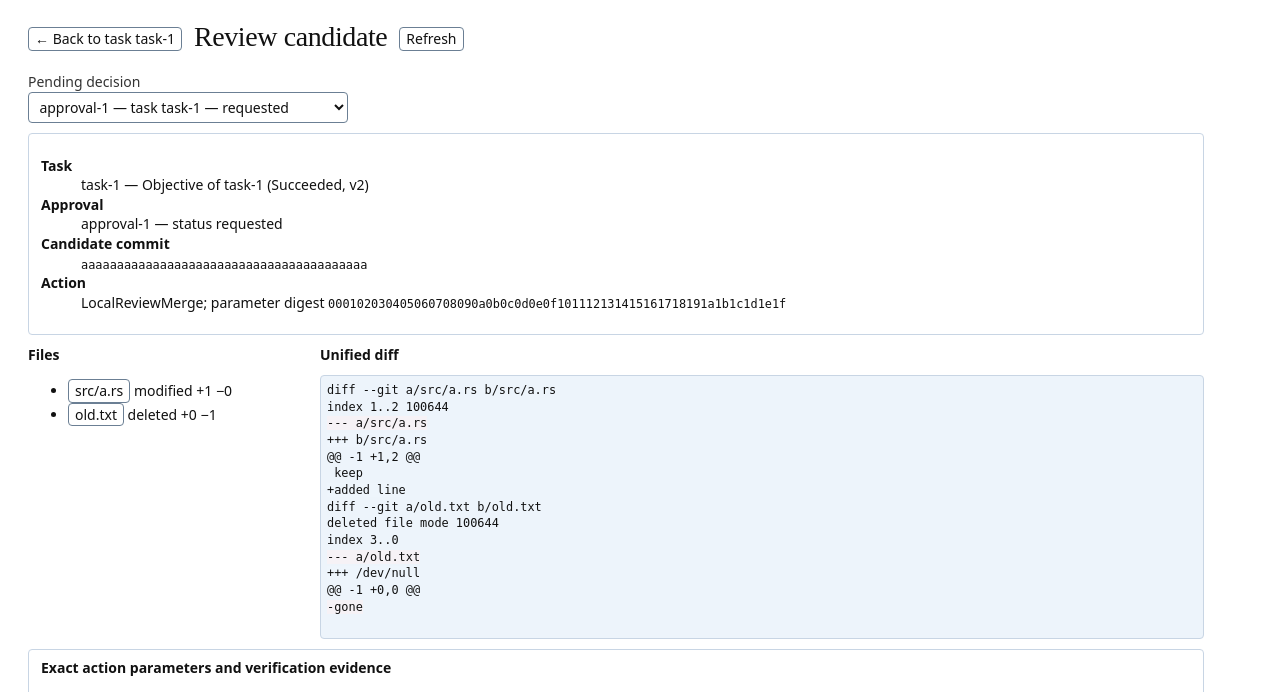
S6 states › warns when the candidate changed under the same approval id
The width and height of the screenshot is (1280, 692).
Click the button "Refresh" at (431, 39), box [399,27,464,51]
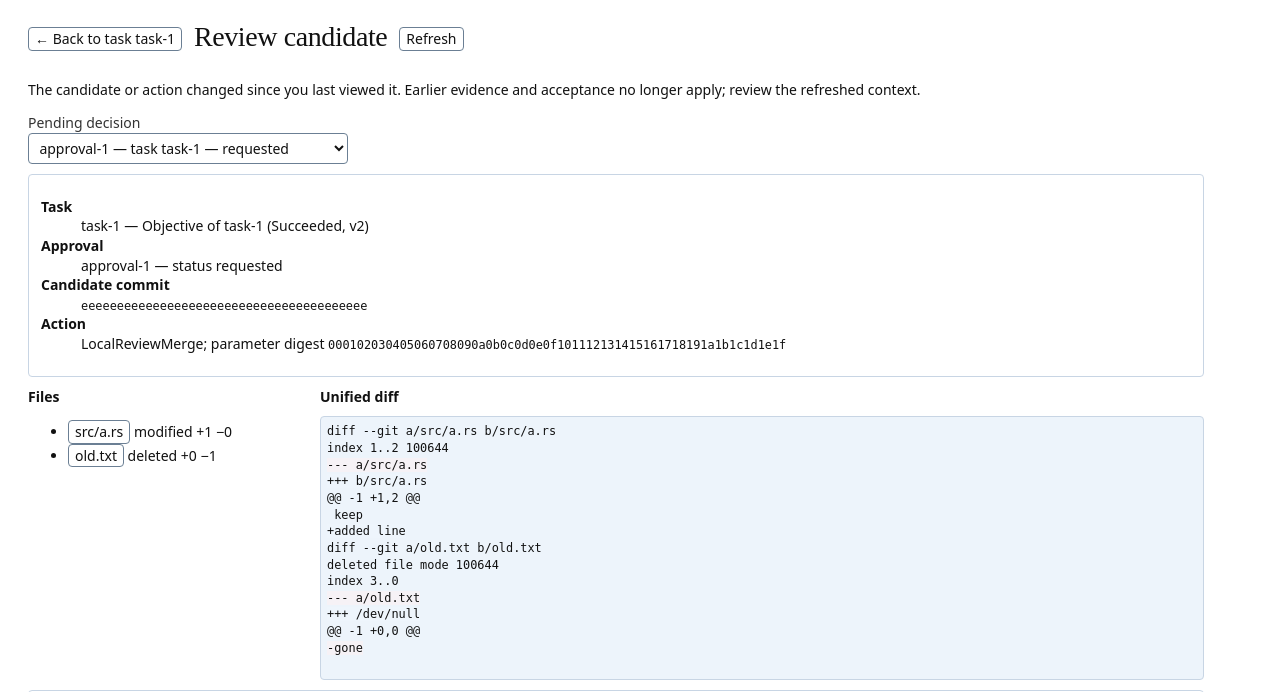
Check: the text "candidate or action changed" is shown, box [28,80,920,99]
